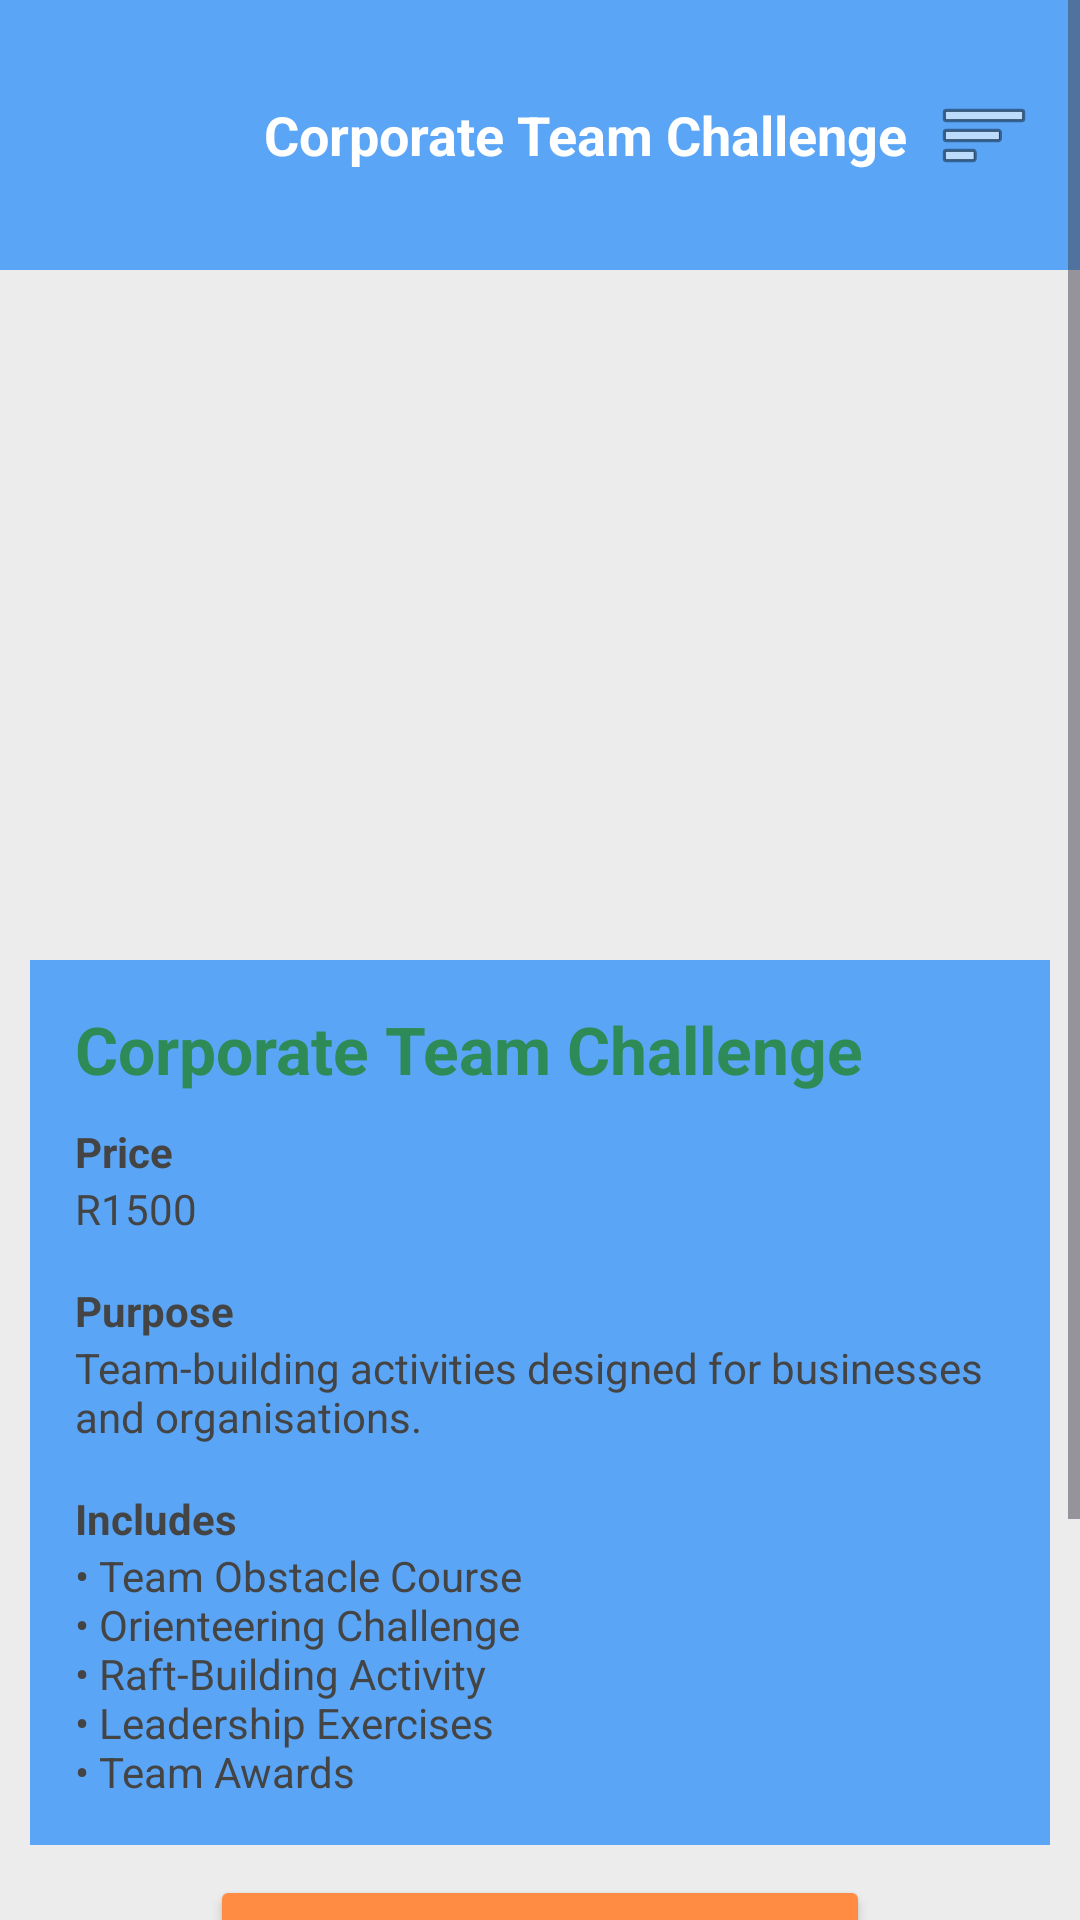

Icons on this 1080px x 1920px Android screen, each with its box as Rect(x1, y1, x2, y2):
sort by size: Rect(943, 109, 1025, 162)
